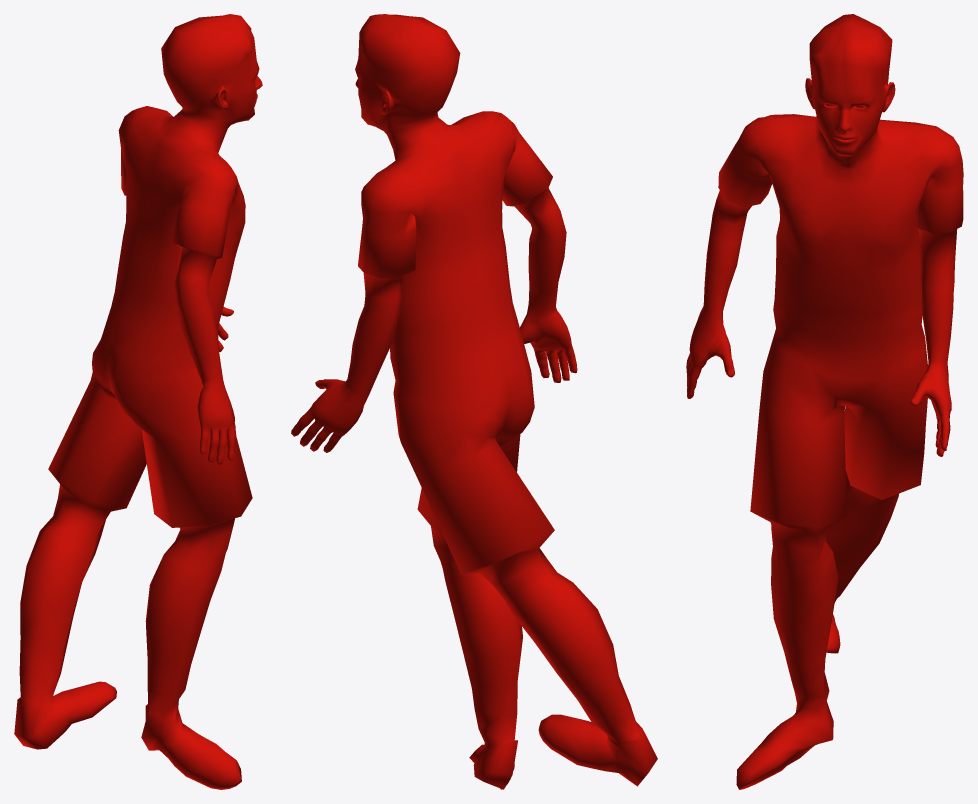
Rendered from player_000041.obj.
The picture shows the model from 3 angles, left to right: view 1: azimuth 30°, elevation 25°; view 2: azimuth 150°, elevation 25°; view 3: azimuth 270°, elevation 25°; orthographic projection. The views are drawn at different scales.
Visible parts, largest first — view 1: soccerplayer.002_mesh.003; view 2: soccerplayer.002_mesh.003; view 3: soccerplayer.002_mesh.003.
Part boxes in pixels (x1,y1,x2,y2): soccerplayer.002_mesh.003: [14, 14, 262, 789]; soccerplayer.002_mesh.003: [291, 14, 657, 789]; soccerplayer.002_mesh.003: [686, 14, 963, 789].
Size of the model in its own units: 1.17 by 3 by 0.9628.
